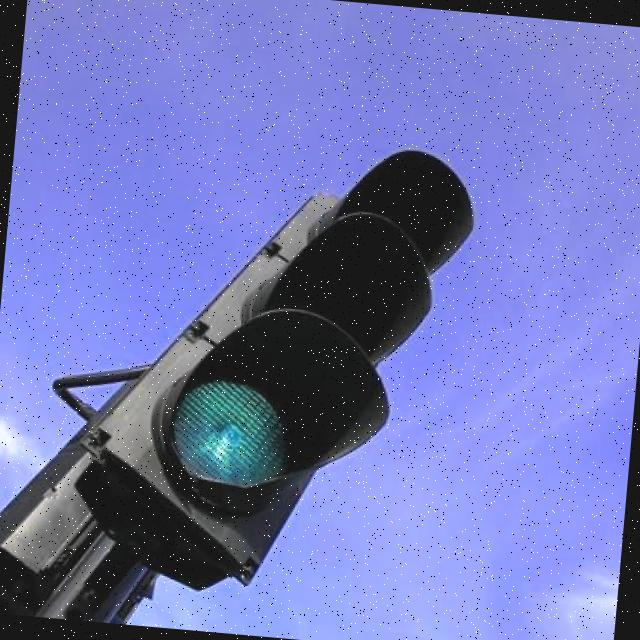Zielone swiatlo: (98, 126, 476, 614)
